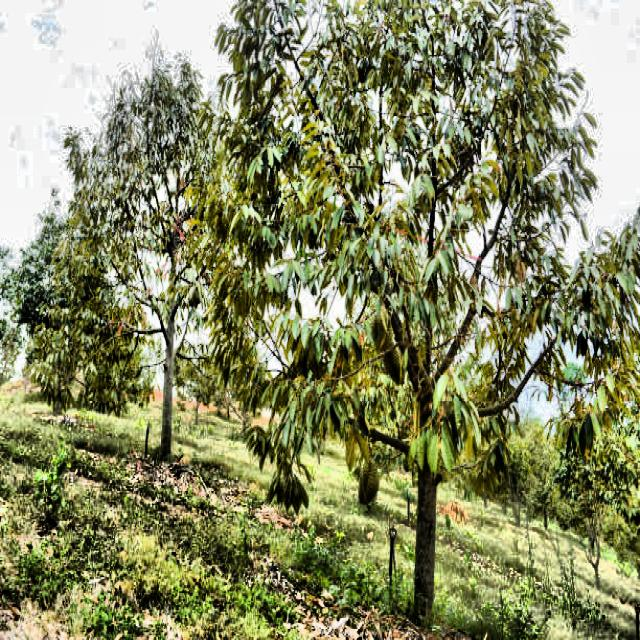arvore: (395, 228, 450, 618), (148, 185, 189, 478)
